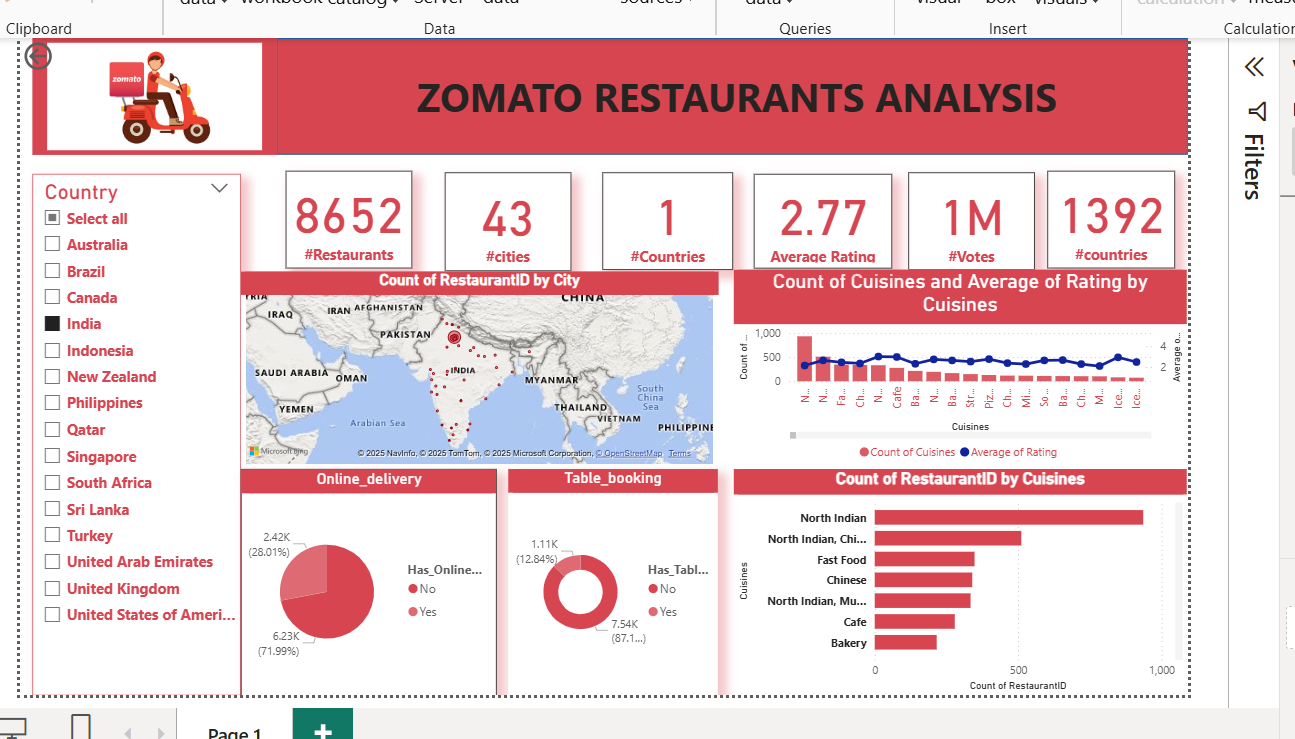

The dashboard page shown, as its layout file describes it:
{"tool":"powerbi","page":{"name":"Page 1","canvas":[1280,720],"ordinal":0},"visuals":[{"type":"shape","box":[281.7,0,998.8,127.8],"z":0},{"type":"image","box":[14,0,267.7,127.8],"z":1000},{"type":"textbox","box":[413.5,30,745.1,73.9],"z":2000},{"type":"card","fields":{"Values":["Count(restaurants.RestaurantID)"]},"box":[291.7,145,138.3,106.7],"z":3000},{"type":"card","fields":{"Values":["Count(restaurants.City)"]},"box":[465,146.7,138.3,108.3],"z":4000},{"type":"card","fields":{"Values":["Count(restaurants.CountryCode)"]},"box":[638.3,146.7,143.3,106.7],"z":5000},{"type":"card","fields":{"Values":["Sum(restaurants.Votes)"]},"box":[973.3,146.7,138.3,106.7],"z":6000},{"type":"actionButton","box":[0,0,100,40],"z":7000},{"type":"card","fields":{"Values":["Count(restaurants.Cuisines)"]},"box":[1126.7,145,140,106.7],"z":8000},{"type":"slicer","fields":{"Values":["countries.country name"]},"box":[13.3,148.3,228.3,571.7],"z":9000},{"type":"lineClusteredColumnComboChart","fields":{"Category":["restaurants.Cuisines"],"Y2":["Avg(restaurants.Rating)"],"Y":["CountNonNull(restaurants.Cuisines)"]},"box":[781.7,253.3,496.7,218.3],"z":10000},{"type":"card","fields":{"Values":["Avg(restaurants.Rating)"]},"box":[805,148.3,151.7,103.3],"z":11000},{"type":"map","fields":{"Category":["restaurants.City"],"Size":["CountNonNull(restaurants.RestaurantID)"]},"box":[241.7,255,523.3,216.7],"z":12000},{"type":"clusteredBarChart","fields":{"Category":["restaurants.Cuisines"],"Y":["CountNonNull(restaurants.RestaurantID)"]},"box":[781.7,471.7,496.7,248.3],"z":13000},{"type":"pieChart","title":"Online_delivery","fields":{"Category":["restaurants.Has_Online_delivery"],"Y":["CountNonNull(restaurants.RestaurantID)"]},"box":[241.7,471.7,280,248.3],"z":14000},{"type":"donutChart","title":"Table_booking","fields":{"Category":["restaurants.Has_Table_booking"],"Y":["CountNonNull(restaurants.RestaurantID)"]},"box":[535,471.7,230,248.3],"z":15000}]}

Visuals, with their boxes on the page's 1280x720 design canvas (x1, y1, x2, y2). These are canvas units, not pixel positions in the 1295x739 screenshot, which may show the page scaled, cropped or inside an application window:
shape: 282:0:1280:128
image: 14:0:282:128
textbox: 414:30:1159:104
card - Count(restaurants.RestaurantID): 292:145:430:252
card - Count(restaurants.City): 465:147:603:255
card - Count(restaurants.CountryCode): 638:147:782:253
card - Sum(restaurants.Votes): 973:147:1112:253
actionButton: 0:0:100:40
card - Count(restaurants.Cuisines): 1127:145:1267:252
slicer - countries.country name: 13:148:242:720
lineClusteredColumnComboChart - restaurants.Cuisines x Avg(restaurants.Rating): 782:253:1278:472
card - Avg(restaurants.Rating): 805:148:957:252
map - restaurants.City x CountNonNull(restaurants.RestaurantID): 242:255:765:472
clusteredBarChart - restaurants.Cuisines x CountNonNull(restaurants.RestaurantID): 782:472:1278:720
"Online_delivery" pieChart: 242:472:522:720
"Table_booking" donutChart: 535:472:765:720
